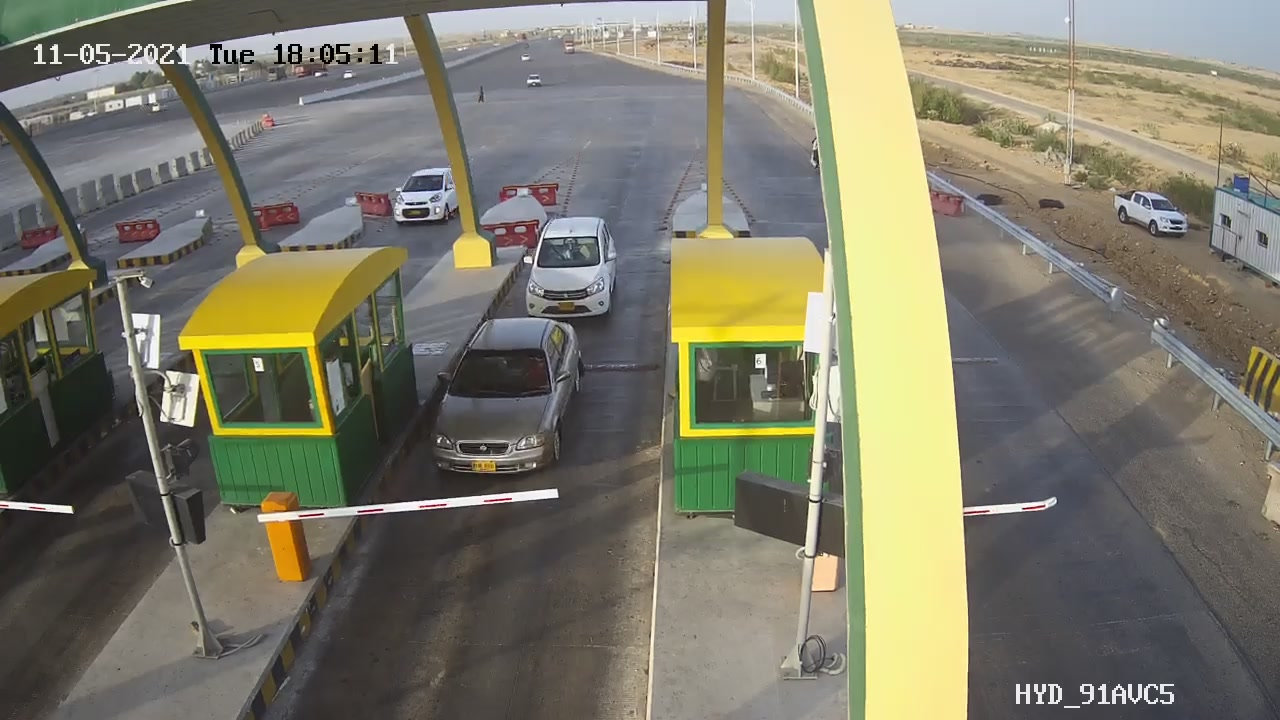F1: (418, 317, 614, 491), (514, 212, 639, 320)
